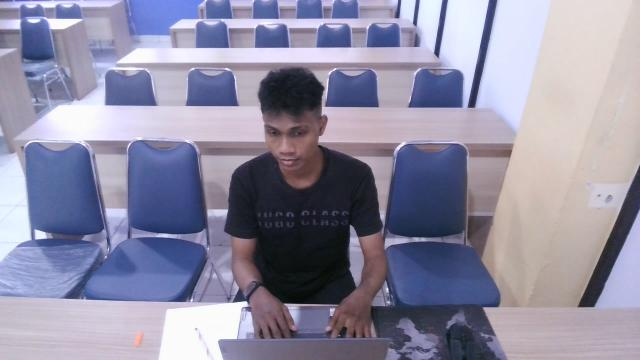Looking_Around: (211, 57, 394, 263)
